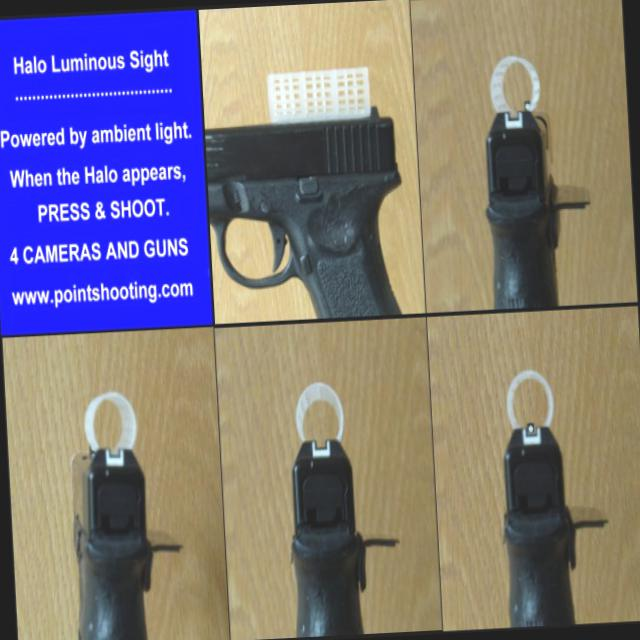handgun: (204, 116, 408, 320), (494, 413, 616, 627), (286, 426, 404, 634), (479, 97, 593, 308), (65, 433, 179, 639)
